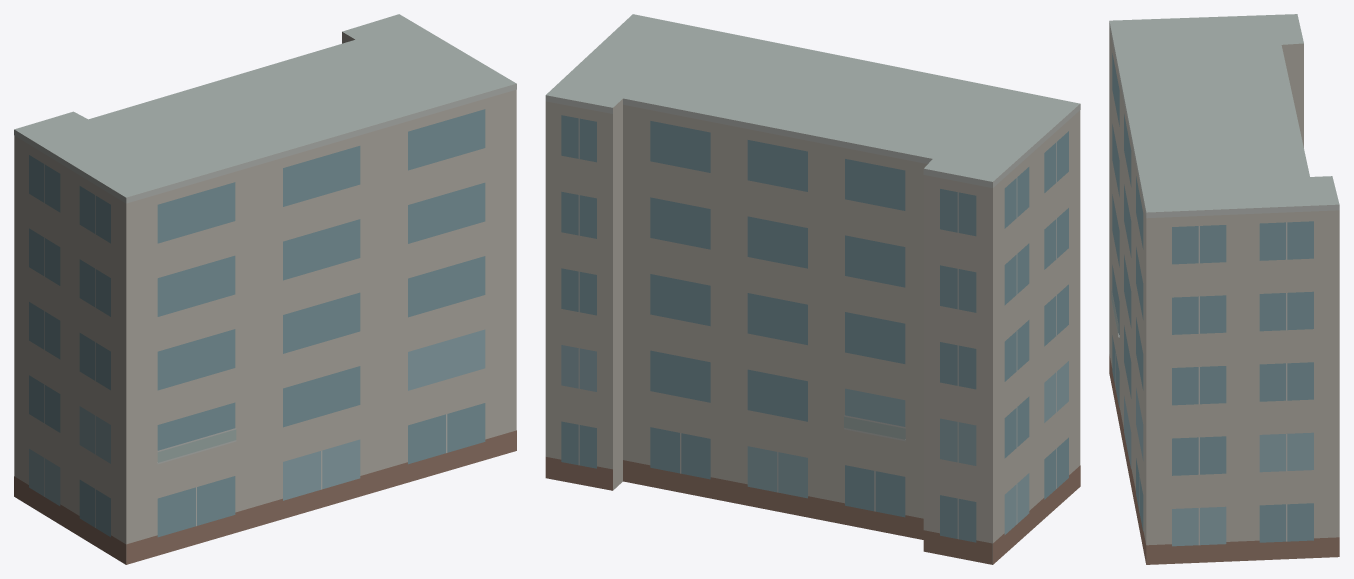
Rendered from survey-upis-32907231.glb.
3 views of the same model, side by side, from view 1: azimuth 30°, elevation 25°; view 2: azimuth 150°, elevation 25°; view 3: azimuth 270°, elevation 25° (orthographic). The views are drawn at different scales.
Parts seen in each view (by area): view 1: survey-upis-32907231.tmp; view 2: survey-upis-32907231.tmp; view 3: survey-upis-32907231.tmp.
Boxes of the visible parts, <box> form: survey-upis-32907231.tmp: <box>14,14,516,564</box>; survey-upis-32907231.tmp: <box>545,14,1080,564</box>; survey-upis-32907231.tmp: <box>1109,14,1339,564</box>.
Size of the model in its own units: 18.22 by 15.07 by 8.93.
